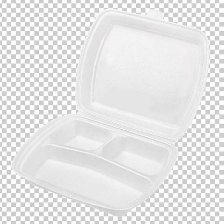foam_box: (8, 3, 212, 219)
